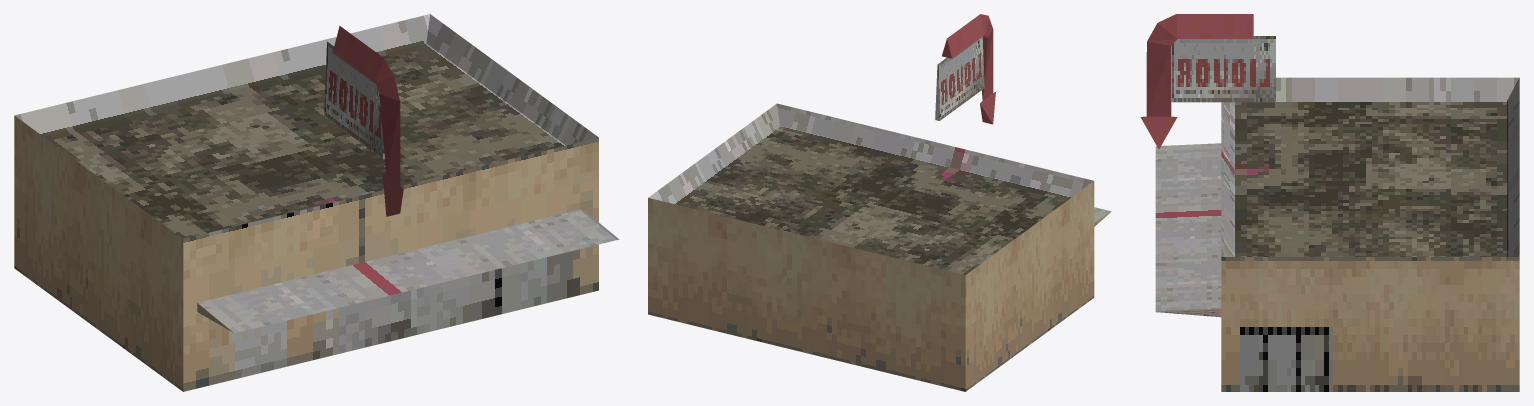
File: cos_liquorshop_lod.obj
3 renders of one model, left to right at view 1: azimuth 30°, elevation 25°; view 2: azimuth 150°, elevation 25°; view 3: azimuth 270°, elevation 25°, orthographic. The views are drawn at different scales.
Visible parts, largest first — view 1: cos_liquorshop_LOD; view 2: cos_liquorshop_LOD; view 3: cos_liquorshop_LOD.
Boxes of the visible parts, <box> form: cos_liquorshop_LOD: <box>14,14,619,391</box>; cos_liquorshop_LOD: <box>648,14,1111,391</box>; cos_liquorshop_LOD: <box>1140,14,1519,391</box>.
Size of the model in its own units: 14.22 by 10.14 by 12.72.
2 materials, 2 textured.
